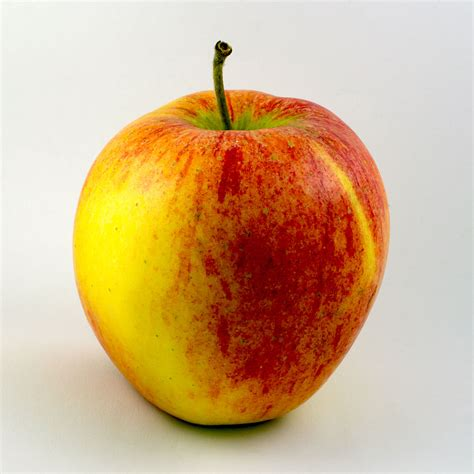apple: (73, 37, 394, 432)
